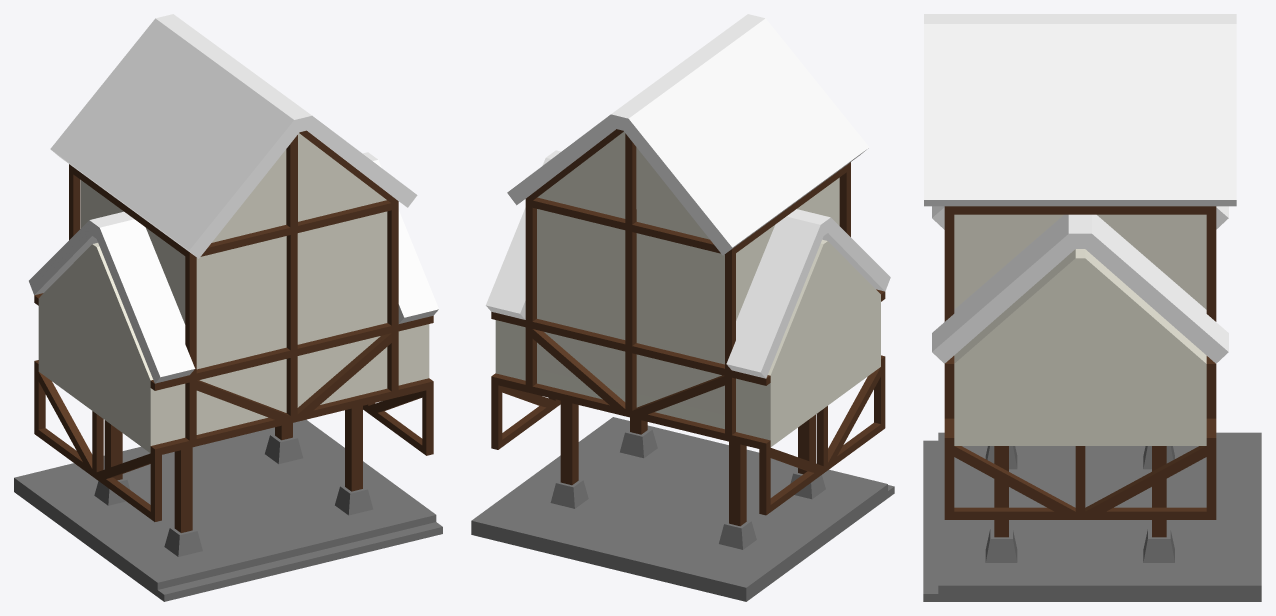
Rendered from Guild Hall Long Tower.fbx.
3 views of the same model, side by side, from view 1: azimuth 30°, elevation 25°; view 2: azimuth 150°, elevation 25°; view 3: azimuth 270°, elevation 25° (orthographic). The views are drawn at different scales.
Parts seen in each view (by area): view 1: Guild Hall Long Tower; view 2: Guild Hall Long Tower; view 3: Guild Hall Long Tower.
Boxes of the visible parts, x1,y1,x2,y2 form: Guild Hall Long Tower: (14, 14, 442, 601); Guild Hall Long Tower: (471, 14, 894, 601); Guild Hall Long Tower: (923, 14, 1261, 601).
Size of the model in its own units: 100 by 154 by 93.32.
